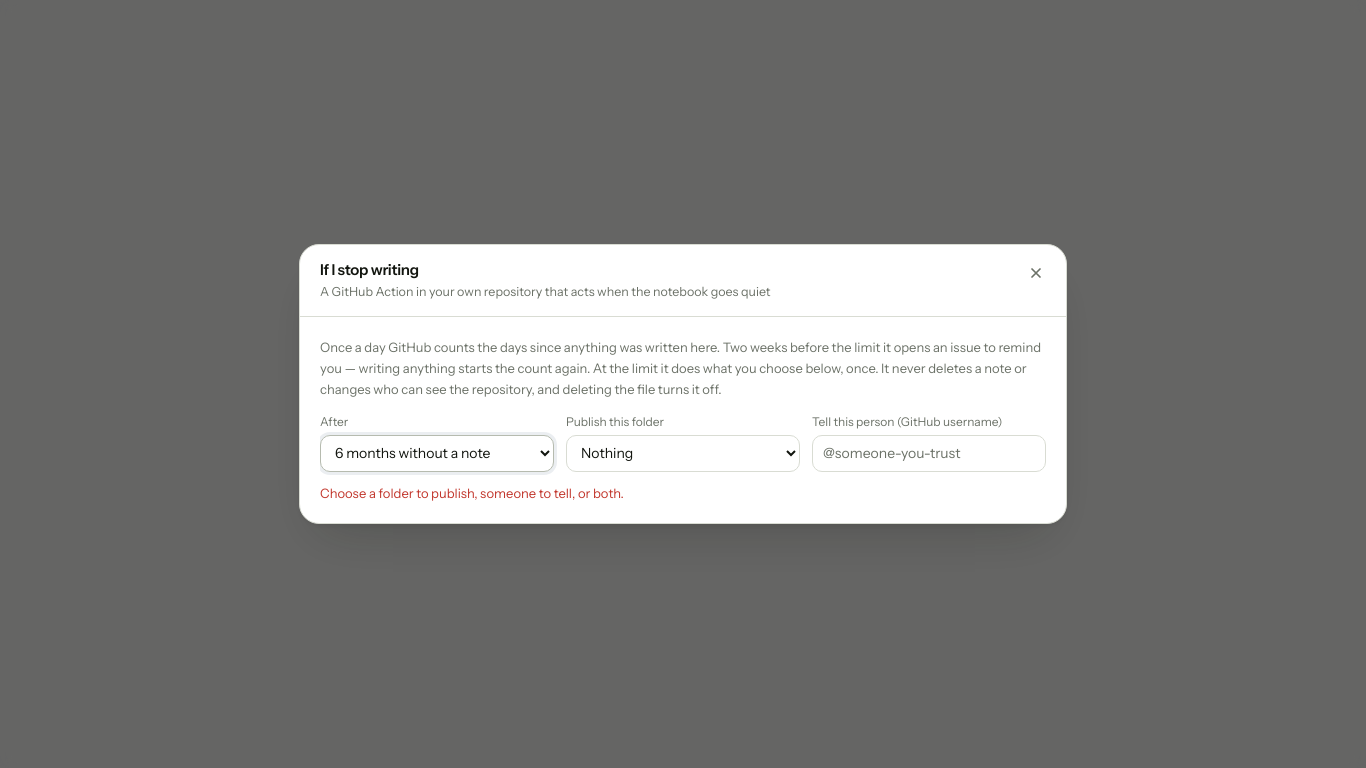
Test: SwitchDialog › refuses a username that is not one
In the field named "Person to tell": (929, 453) [812,435,1046,472], type "a b; ls"
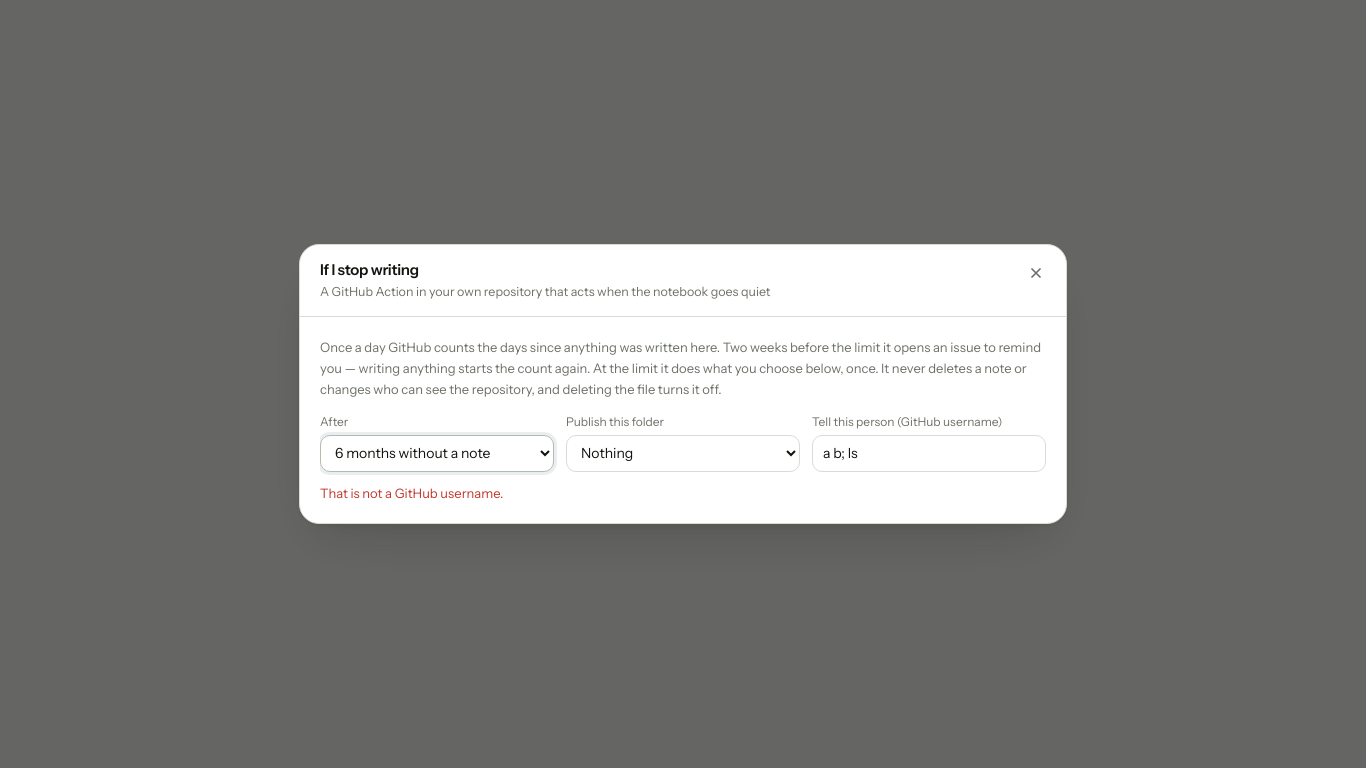
Result: the message reads "That is not a GitHub username." at [320,485,503,501]
